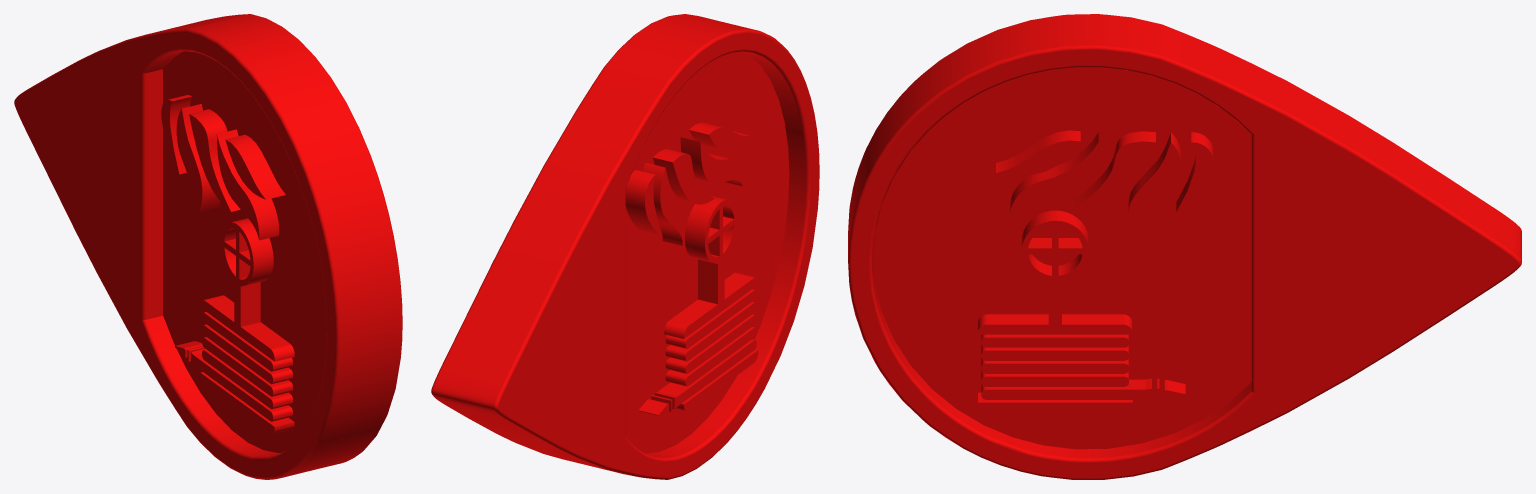
Rendered from ICONO 2.fbx.
3 renders of one model, left to right at view 1: azimuth 30°, elevation 25°; view 2: azimuth 150°, elevation 25°; view 3: azimuth 270°, elevation 25°, orthographic. The views are drawn at different scales.
Visible parts, largest first — view 1: Body69; view 2: Body69; view 3: Body69.
Part boxes in pixels (x1,y1,x2,y2): Body69: (14,14,402,479); Body69: (431,14,819,479); Body69: (848,14,1521,479).
Size of the model in its own units: 112 by 675 by 947.
